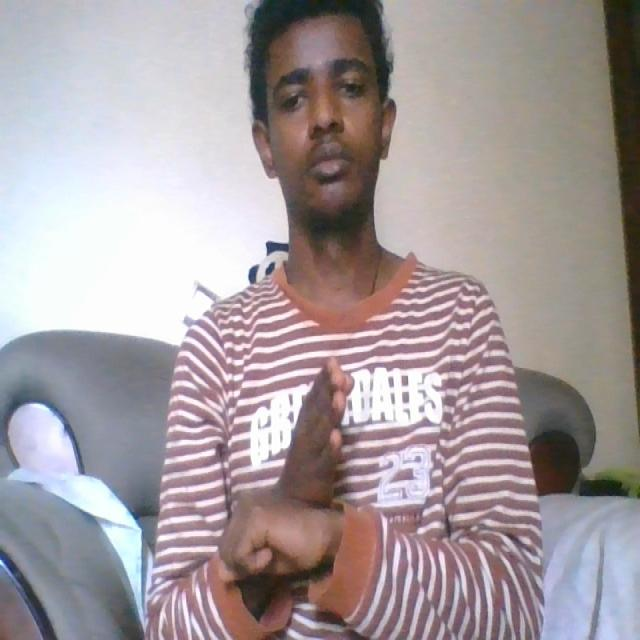behuala: (212, 352, 372, 594)
